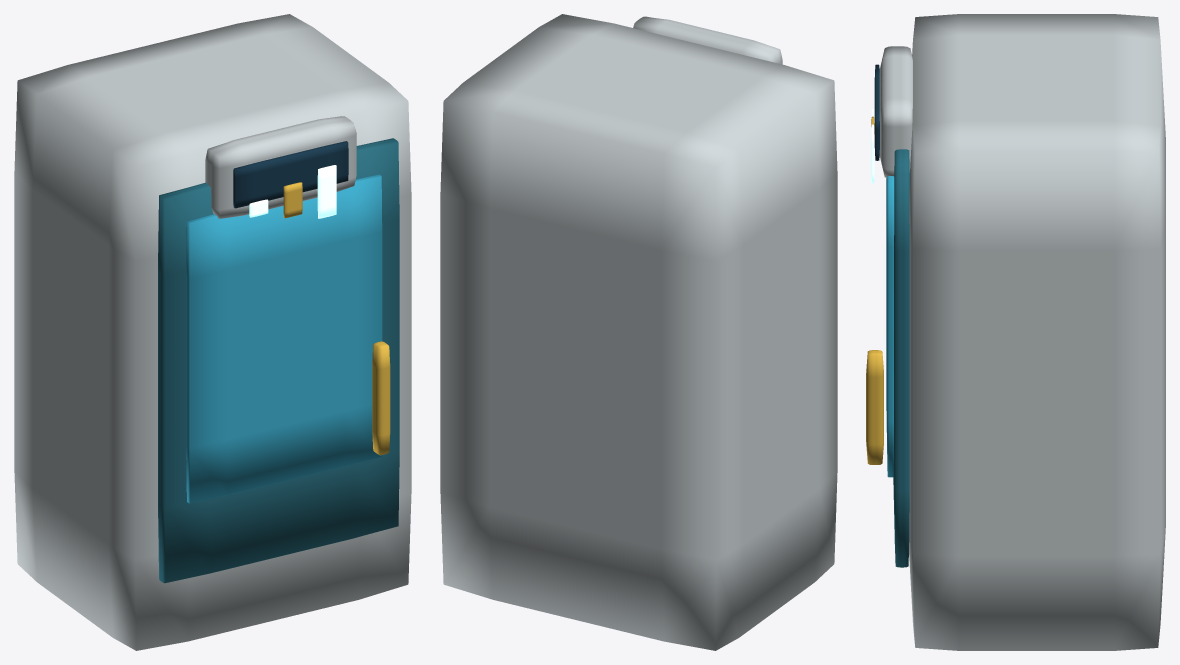
File: laboratorio-armario-muestras.glb
3 renders of one model, left to right at view 1: azimuth 30°, elevation 25°; view 2: azimuth 150°, elevation 25°; view 3: azimuth 270°, elevation 25°, orthographic. The views are drawn at different scales.
Parts seen in each view (by area): view 1: Blanco, Agua, Petroleo, Pantalla, Amarillo, Luz; view 2: Blanco; view 3: Blanco, Petroleo, Agua, Amarillo, Pantalla.
Part boxes in pixels (x1,y1,x2,y2): Blanco: (14, 14, 411, 650); Agua: (186, 174, 382, 503); Petroleo: (158, 138, 399, 583); Pantalla: (233, 141, 348, 208); Amarillo: (283, 182, 390, 455); Luz: (249, 165, 336, 218); Blanco: (440, 14, 837, 650); Blanco: (879, 14, 1165, 650); Petroleo: (893, 149, 909, 567); Agua: (886, 176, 894, 477); Amarillo: (866, 116, 883, 464); Pantalla: (874, 64, 879, 160).
Bounding box in the file's own units: 1.5 × 2.51 × 1.33.
